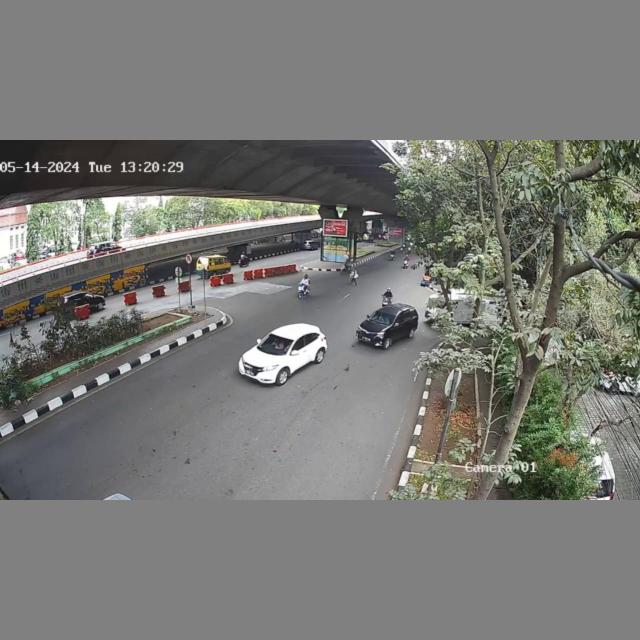windshield: (258, 332, 293, 358), (369, 309, 395, 326)
